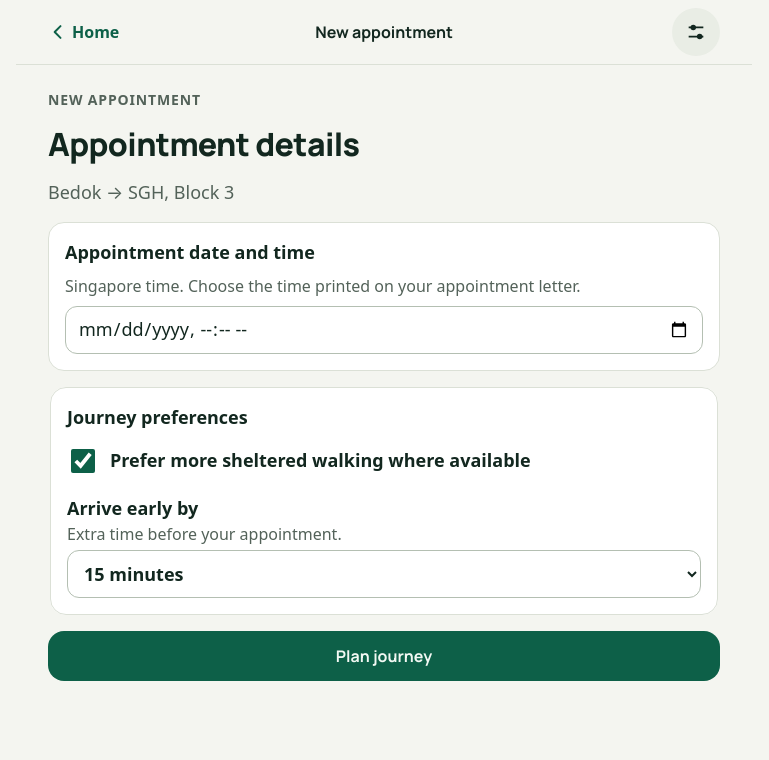
Test case: appointment form › keeps the form visible and explains an incomplete appointment
Expected: the field labelled "Appointment date and time" is empty, [65,306,703,354]
Click the button "Plan journey". click: point(384, 656)
box: [48,631,720,681]
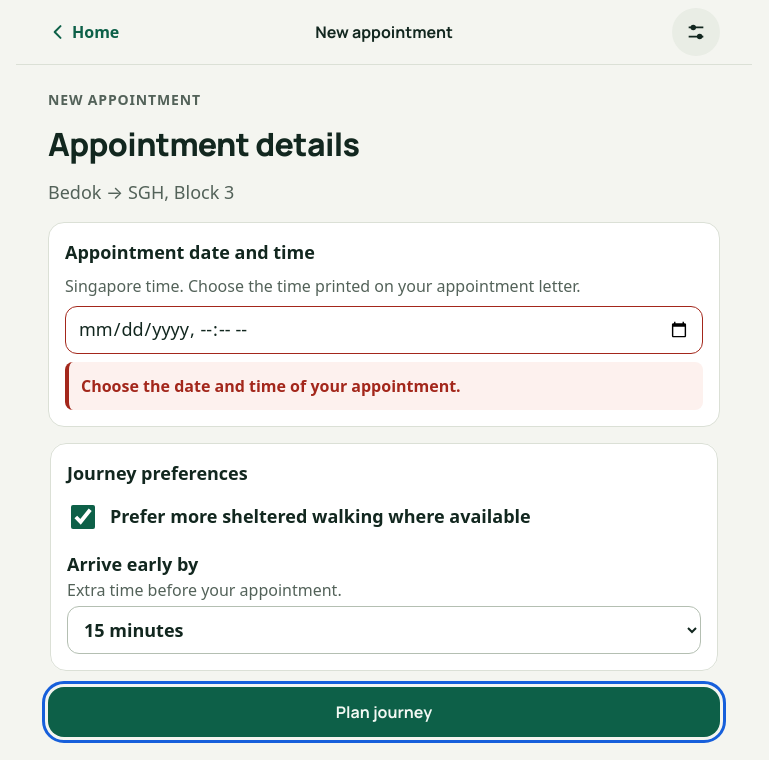
Expected: the field labelled "Appointment date and time" is shown, [65,306,703,354]
Expected: the text "Choose the date and time of your appointment." is shown, [65,362,703,410]
